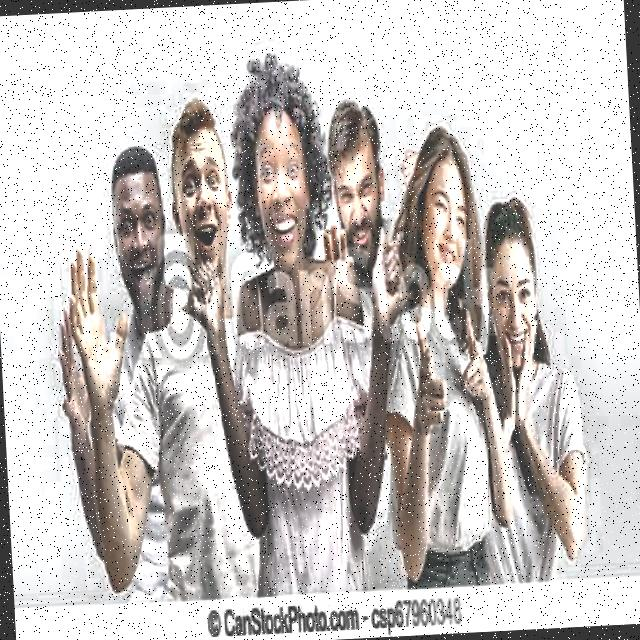surprised: (221, 66, 318, 290), (479, 176, 562, 378), (319, 89, 399, 288), (158, 96, 240, 290), (397, 131, 487, 302), (97, 148, 171, 301)
